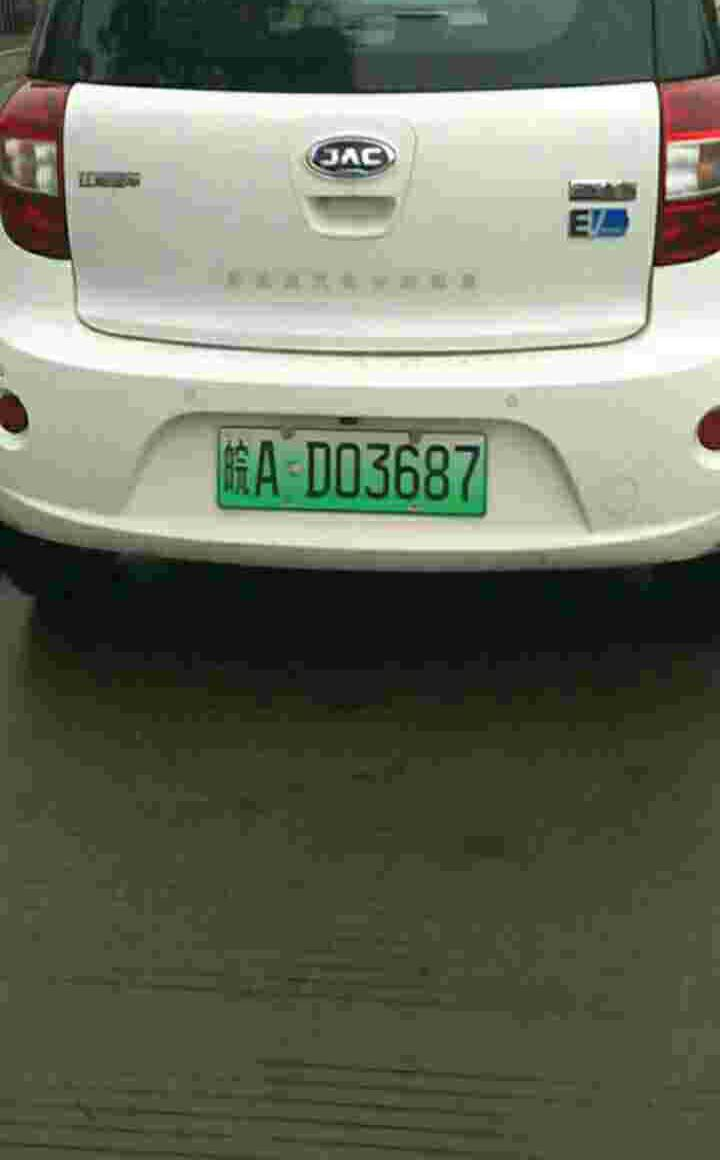car_green: (215, 416, 492, 515)
